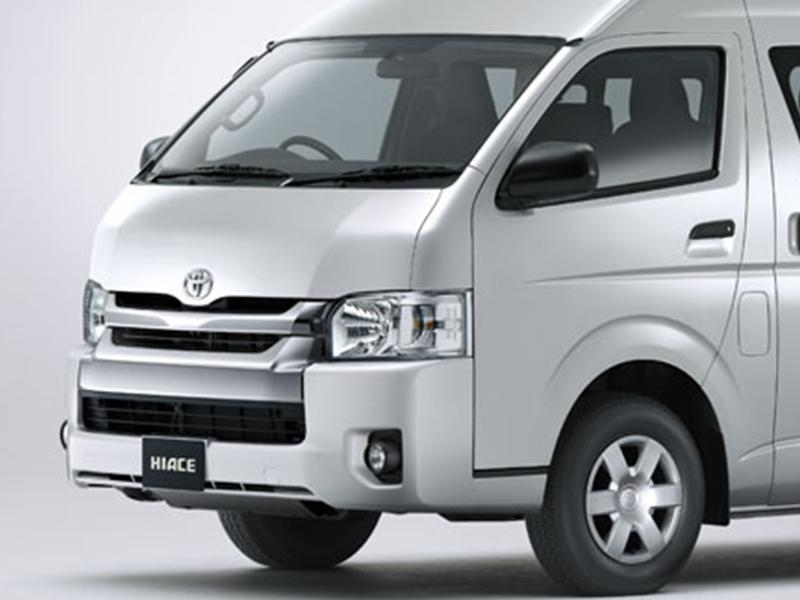van: (60, 1, 800, 596)
